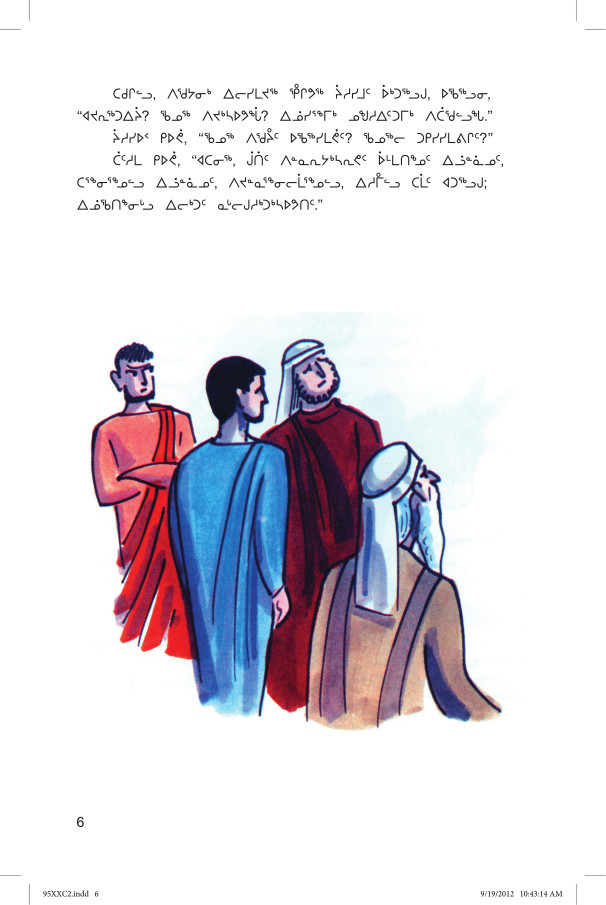inuktitut: (66, 79, 512, 222)
